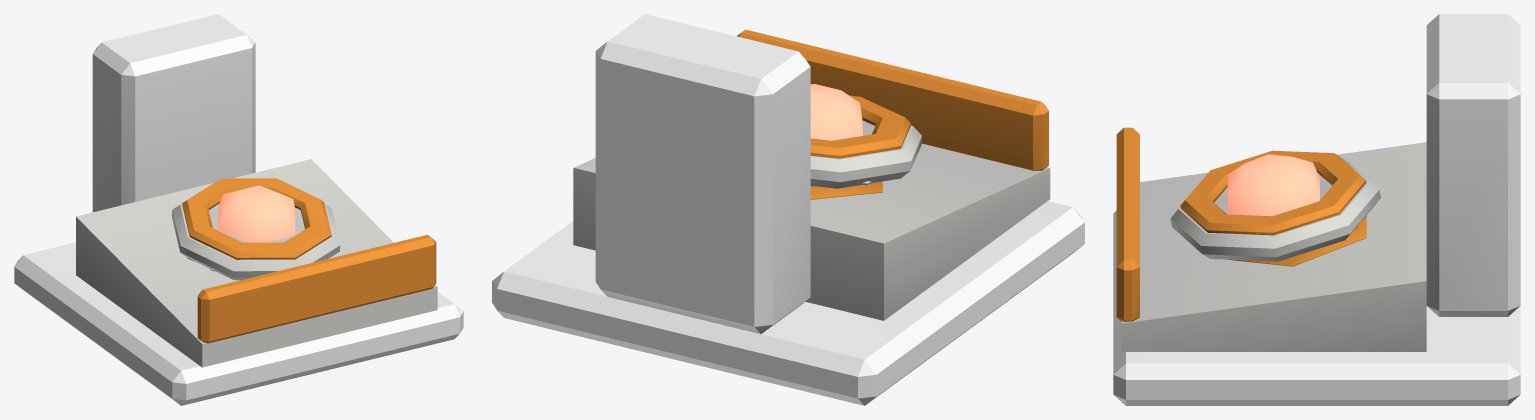
Rendered from R4X_ExplosiveTrapDeployer_LOD1.fbx.
3 renders of one model, left to right at view 1: azimuth 30°, elevation 25°; view 2: azimuth 150°, elevation 25°; view 3: azimuth 270°, elevation 25°, orthographic. The views are drawn at different scales.
Parts seen in each view (by area): view 1: R4X_ExplosiveTrapDeployer_LOD1; view 2: R4X_ExplosiveTrapDeployer_LOD1; view 3: R4X_ExplosiveTrapDeployer_LOD1.
Boxes of the visible parts, x1=… form: R4X_ExplosiveTrapDeployer_LOD1: x1=14, y1=14, x2=463, y2=405; R4X_ExplosiveTrapDeployer_LOD1: x1=492, y1=14, x2=1084, y2=405; R4X_ExplosiveTrapDeployer_LOD1: x1=1113, y1=14, x2=1520, y2=405.
Size of the model in its own units: 0.52 by 0.39 by 0.52.
